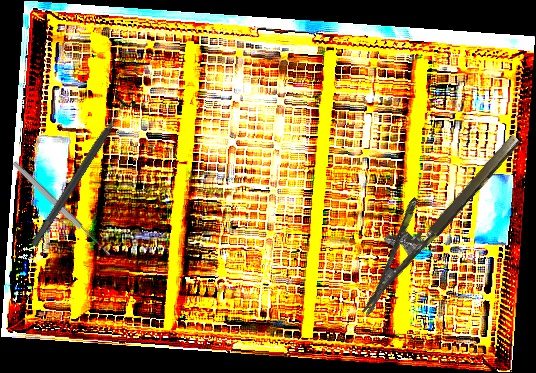Fixation Ring: (21, 88, 139, 254)
Needle Holder: (334, 113, 523, 317)
Surgical Spoon: (10, 159, 113, 259)
